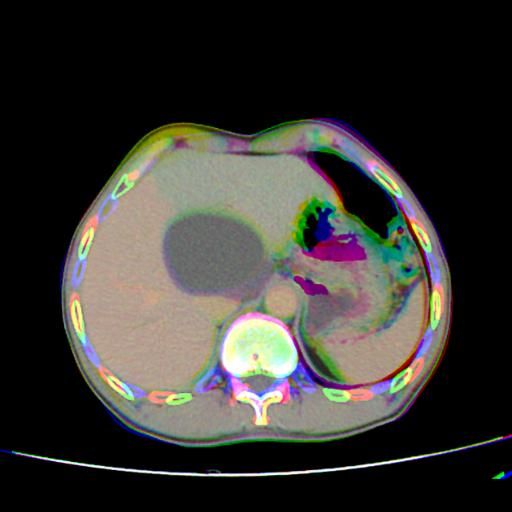Cyst: (163, 212, 264, 295)
